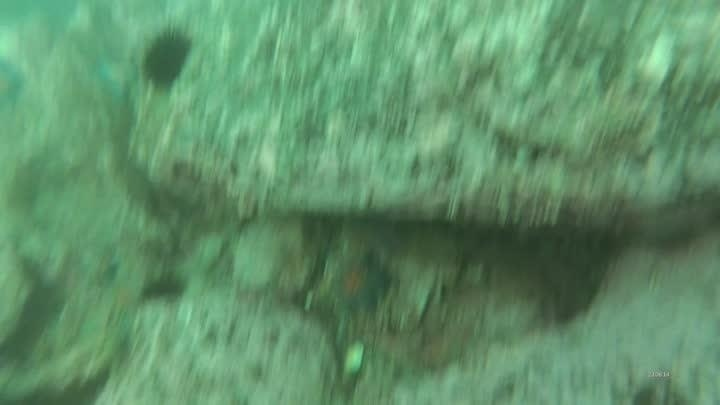echinus: (137, 23, 197, 95), (145, 267, 187, 306)
starfish: (328, 248, 394, 318), (88, 49, 142, 106), (100, 264, 150, 323), (1, 56, 30, 117)
